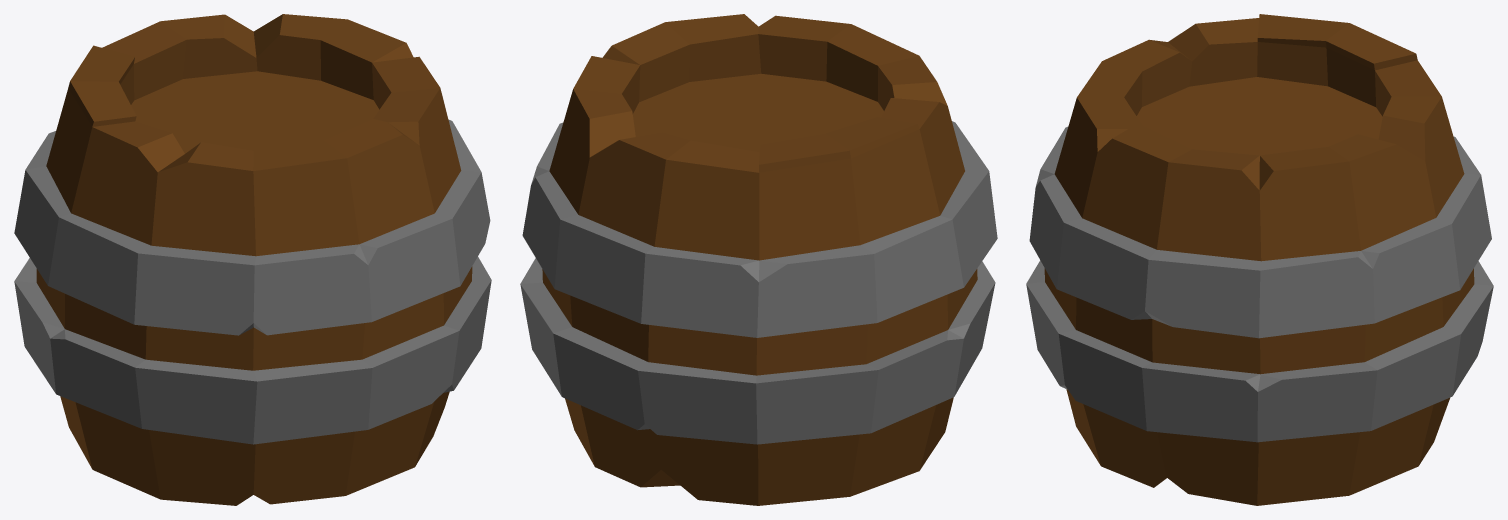
The model's file is PBR_barrel.fbx.
3 views of the same model, side by side, from view 1: azimuth 30°, elevation 25°; view 2: azimuth 150°, elevation 25°; view 3: azimuth 270°, elevation 25° (orthographic). The views are drawn at different scales.
Visible parts, largest first — view 1: barrel low; view 2: barrel low; view 3: barrel low.
Part boxes in pixels (x1,y1,x2,y2): barrel low: [14, 14, 491, 505]; barrel low: [520, 14, 997, 505]; barrel low: [1026, 14, 1493, 505].
Size of the model in its own units: 128 by 128 by 104.
